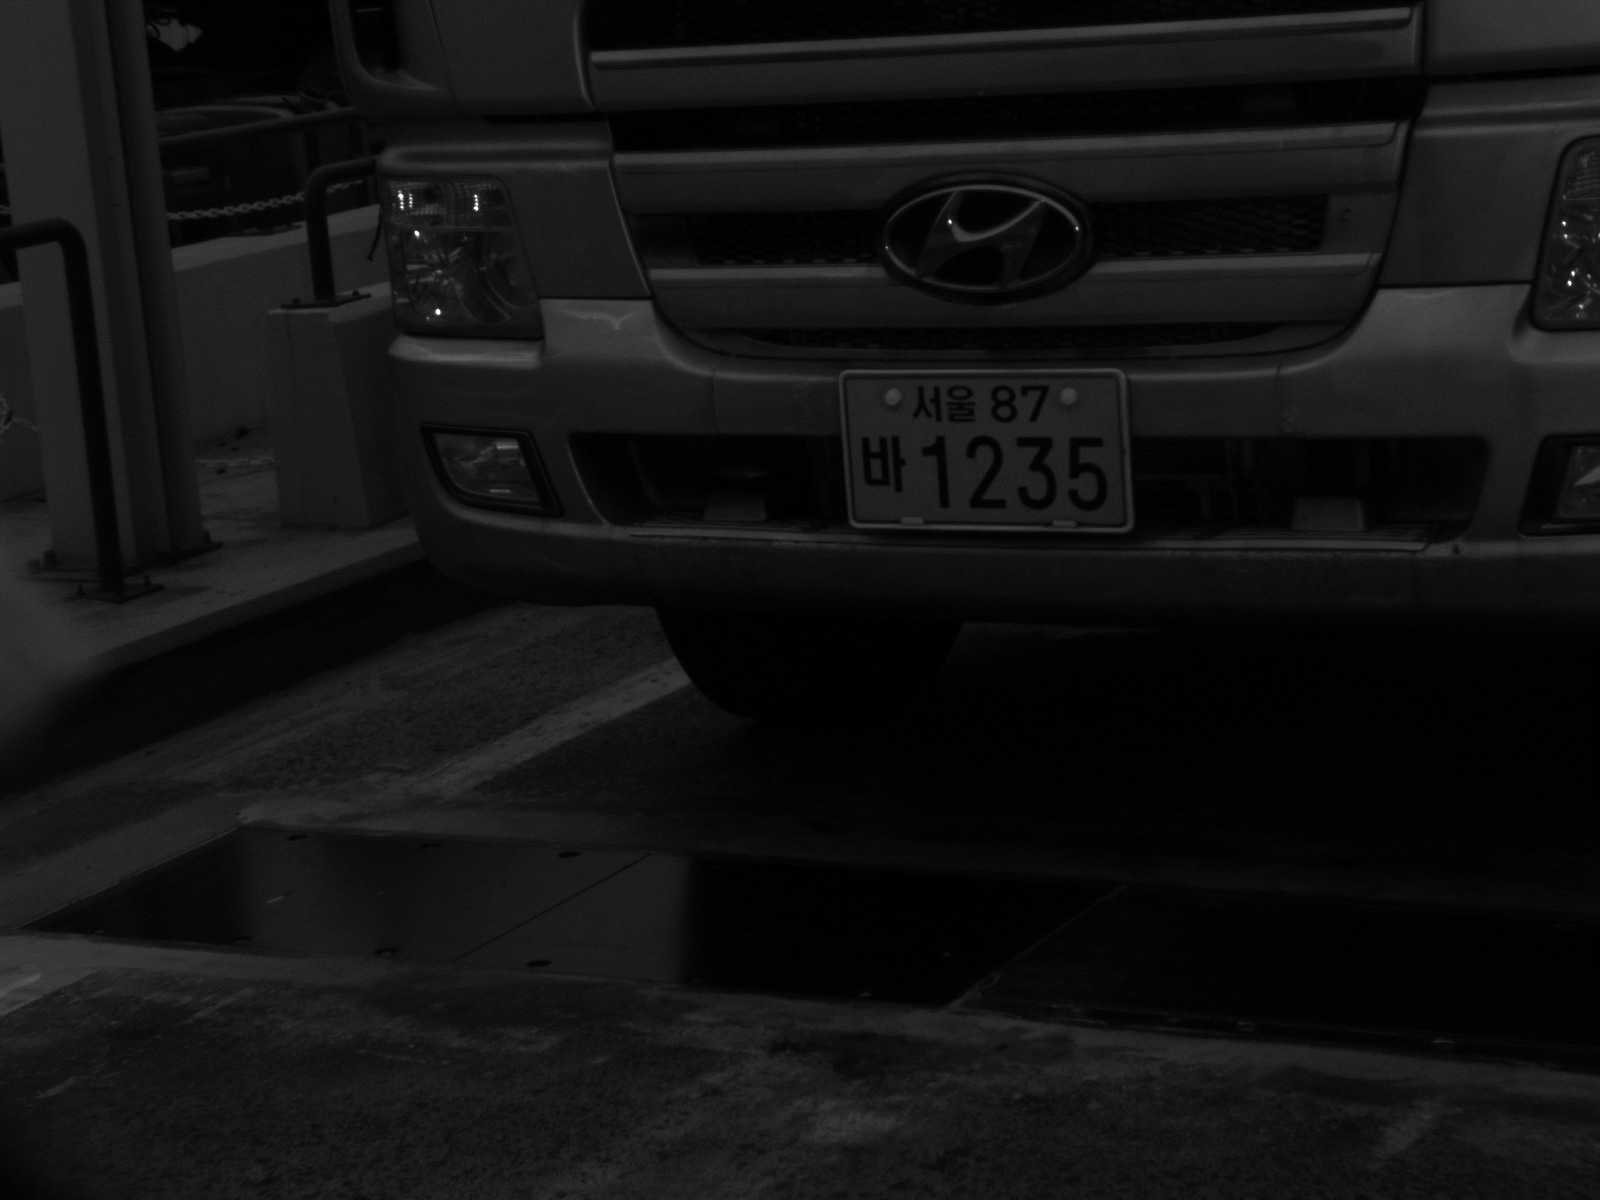car: (375, 1, 1600, 717)
plate: (839, 370, 1130, 532)
